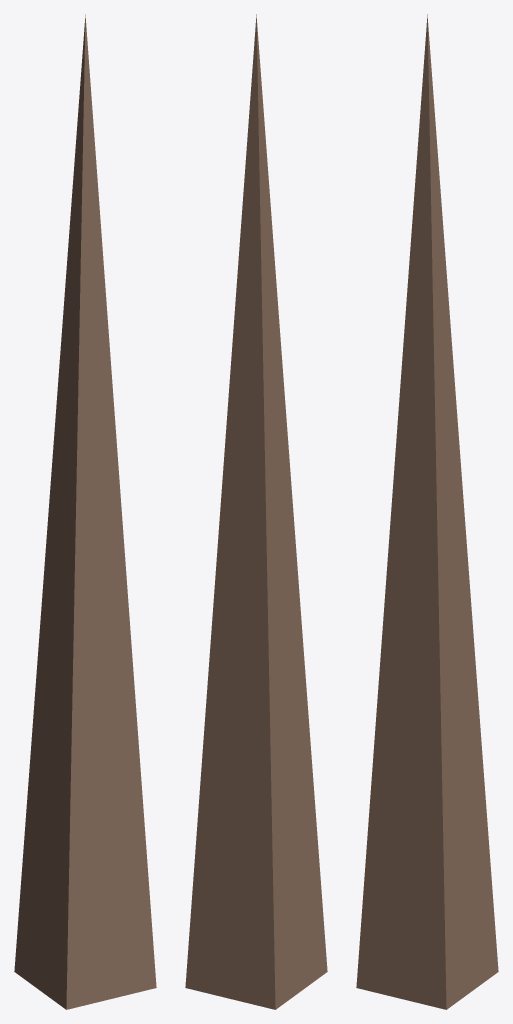
Rendered from diken_tek.fbx.
3 renders of one model, left to right at view 1: azimuth 30°, elevation 25°; view 2: azimuth 150°, elevation 25°; view 3: azimuth 330°, elevation 25°, orthographic.
Visible parts, largest first — view 1: dikenler.002; view 2: dikenler.002; view 3: dikenler.002.
Boxes of the visible parts, x1=… form: dikenler.002: x1=14, y1=14, x2=156, y2=1009; dikenler.002: x1=185, y1=14, x2=327, y2=1009; dikenler.002: x1=356, y1=14, x2=498, y2=1009.
Size of the model in its own units: 0.254 by 2.6 by 0.254.
Materials: 1 (1 with a texture image).
